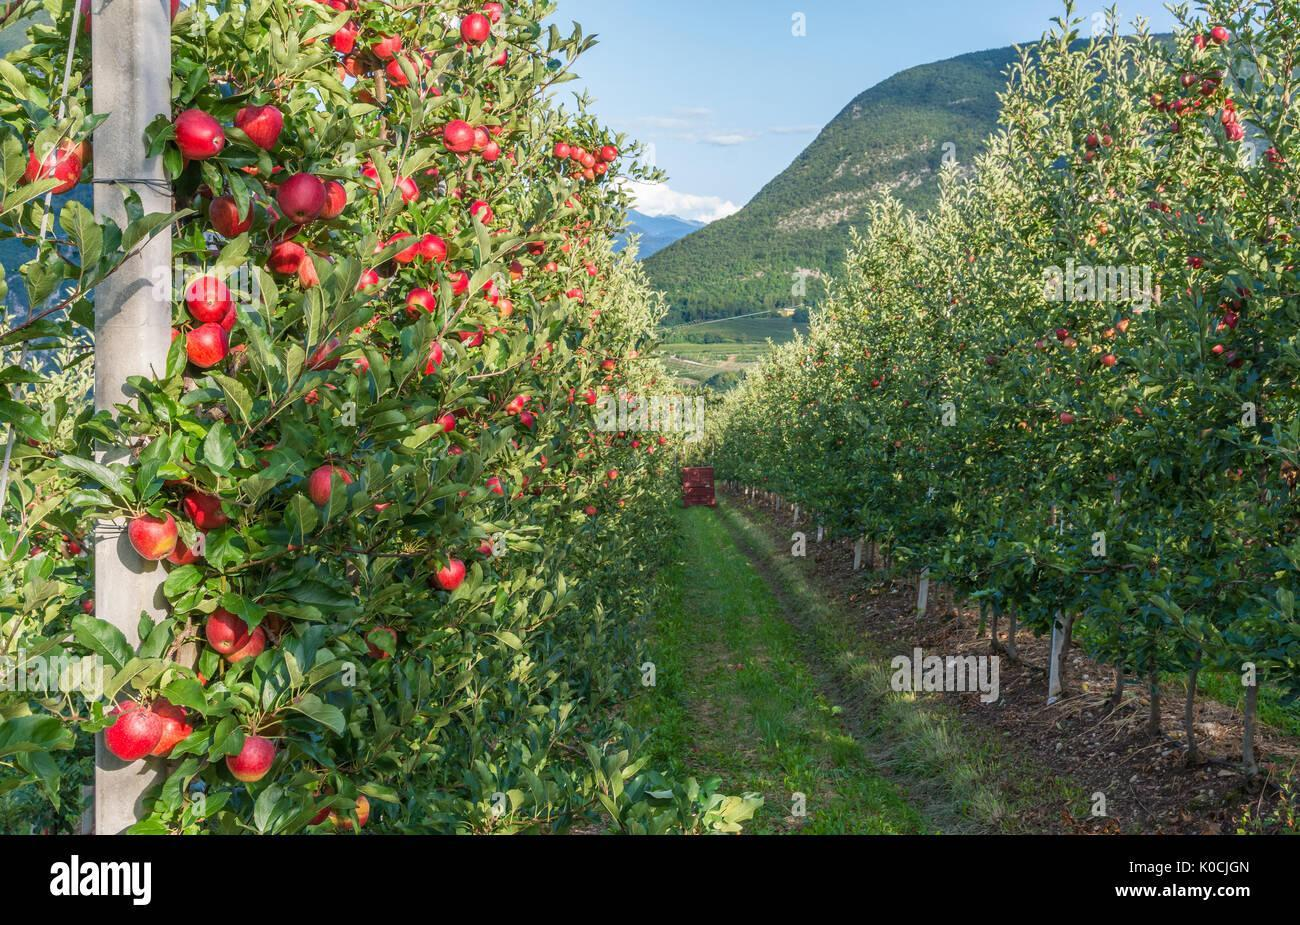apple: (126, 509, 178, 561), (183, 274, 233, 327), (174, 108, 224, 158), (234, 103, 283, 149), (277, 174, 326, 220), (205, 608, 251, 654), (227, 736, 274, 781), (183, 322, 227, 368), (307, 462, 350, 507), (208, 197, 254, 238), (225, 629, 266, 659), (430, 557, 466, 590)
